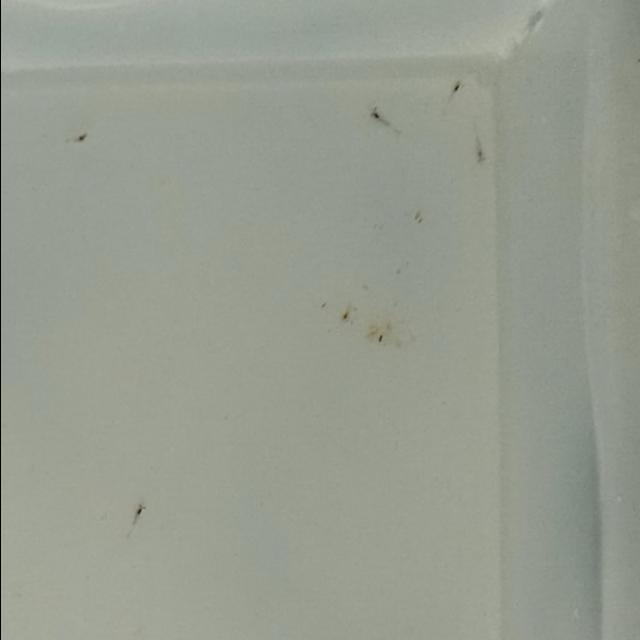shrimp-seed: (474, 146, 491, 169), (130, 502, 147, 524), (368, 105, 386, 125), (73, 128, 89, 146), (448, 82, 462, 96)
